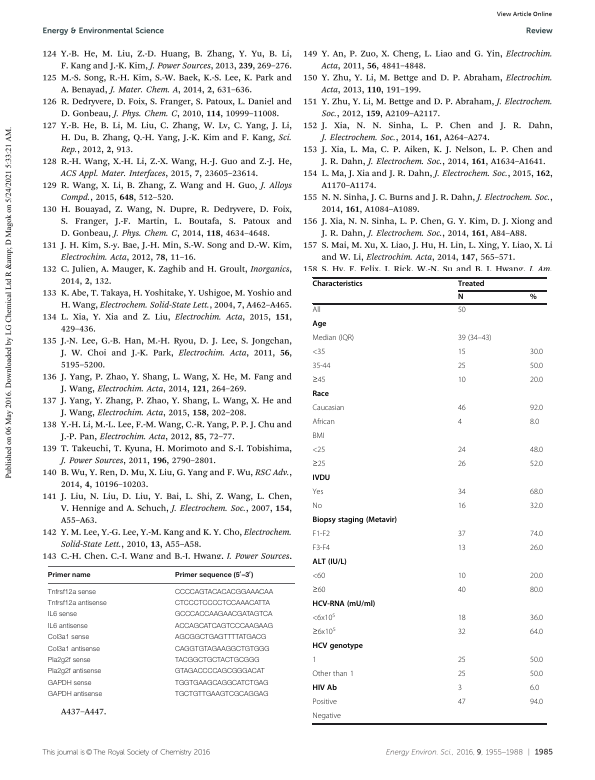borderless: (311, 276, 546, 723), (46, 564, 296, 699)
cell: (174, 588, 274, 597), (174, 622, 274, 631), (174, 599, 270, 608), (312, 516, 398, 526), (174, 690, 269, 699), (174, 633, 267, 642), (174, 611, 273, 619), (174, 656, 260, 665), (174, 645, 270, 653), (174, 679, 269, 687), (174, 668, 265, 676), (312, 600, 376, 610), (174, 571, 254, 579), (47, 599, 107, 608), (312, 642, 364, 652), (47, 690, 103, 699), (312, 280, 364, 289), (47, 588, 96, 597), (47, 668, 102, 676), (312, 334, 355, 344), (312, 670, 355, 680), (47, 645, 100, 653), (47, 656, 91, 665), (47, 633, 90, 642), (47, 622, 88, 631), (312, 558, 348, 568), (47, 679, 92, 687), (47, 571, 91, 579), (457, 334, 492, 344), (312, 404, 345, 414), (312, 712, 342, 722), (312, 627, 337, 638), (312, 613, 336, 624), (312, 684, 338, 694), (312, 698, 338, 708), (457, 280, 485, 289), (312, 418, 336, 428), (47, 611, 77, 619), (312, 362, 331, 372), (312, 474, 331, 484), (312, 530, 331, 540), (312, 544, 331, 554), (312, 390, 330, 400), (312, 320, 327, 330), (529, 348, 544, 358), (529, 362, 544, 372), (529, 376, 544, 386), (529, 404, 544, 414), (529, 446, 544, 456), (529, 460, 544, 470), (529, 488, 544, 498), (529, 502, 544, 512), (529, 530, 544, 540), (529, 544, 544, 554), (529, 572, 544, 582), (529, 586, 544, 596), (529, 614, 544, 624), (529, 628, 544, 638), (529, 656, 544, 666), (529, 670, 544, 680), (529, 698, 544, 708), (312, 348, 326, 358), (312, 376, 326, 386), (312, 446, 326, 456), (312, 460, 326, 470), (312, 572, 326, 582), (312, 586, 326, 596), (312, 432, 325, 442), (312, 488, 324, 498), (529, 418, 540, 428), (312, 502, 323, 512), (529, 684, 540, 694), (457, 306, 467, 316), (457, 348, 467, 358), (457, 362, 467, 372), (457, 376, 467, 386), (457, 404, 467, 414), (457, 446, 467, 456), (457, 460, 467, 470), (457, 488, 467, 498), (457, 502, 467, 512), (457, 530, 467, 540), (457, 544, 467, 554), (457, 572, 467, 582), (457, 586, 467, 596), (457, 614, 467, 624), (457, 628, 467, 638), (457, 656, 467, 666), (457, 670, 467, 680), (457, 698, 467, 708), (529, 293, 538, 303), (312, 306, 321, 316), (457, 293, 464, 303), (457, 418, 463, 428), (457, 684, 463, 694), (312, 656, 317, 666)
